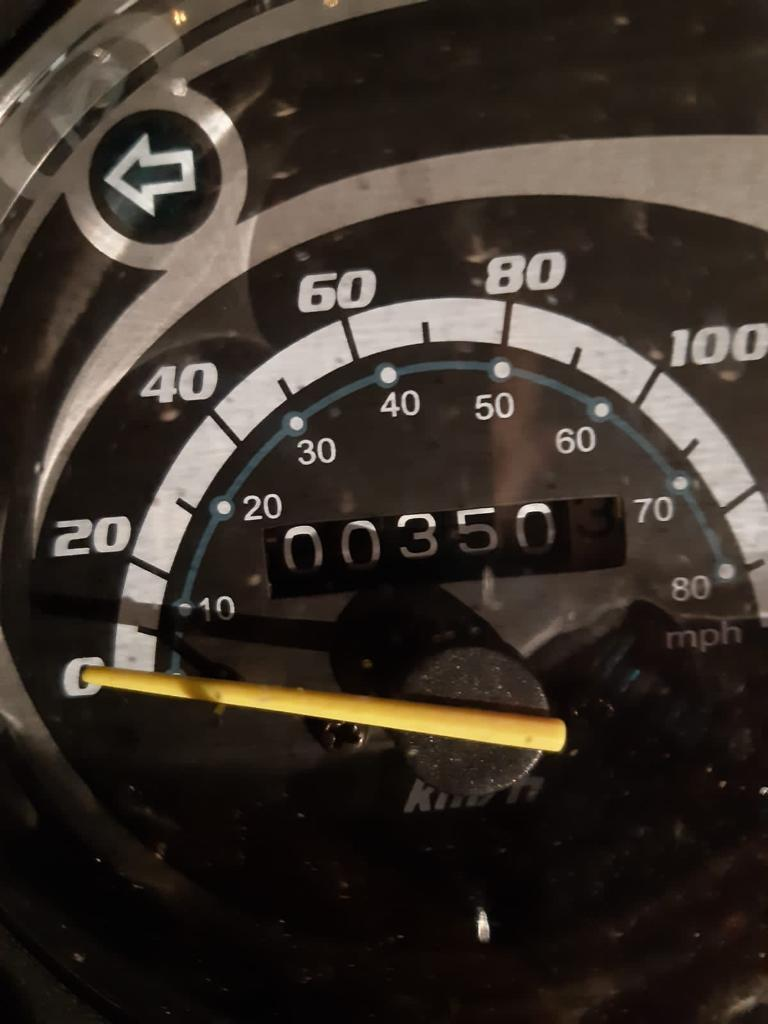0: (514, 496, 561, 558), (341, 511, 385, 571), (282, 524, 326, 572), (265, 491, 283, 520)
3: (395, 505, 440, 565), (574, 493, 620, 547)
5: (453, 504, 504, 561)
odometer: (265, 488, 639, 591)
